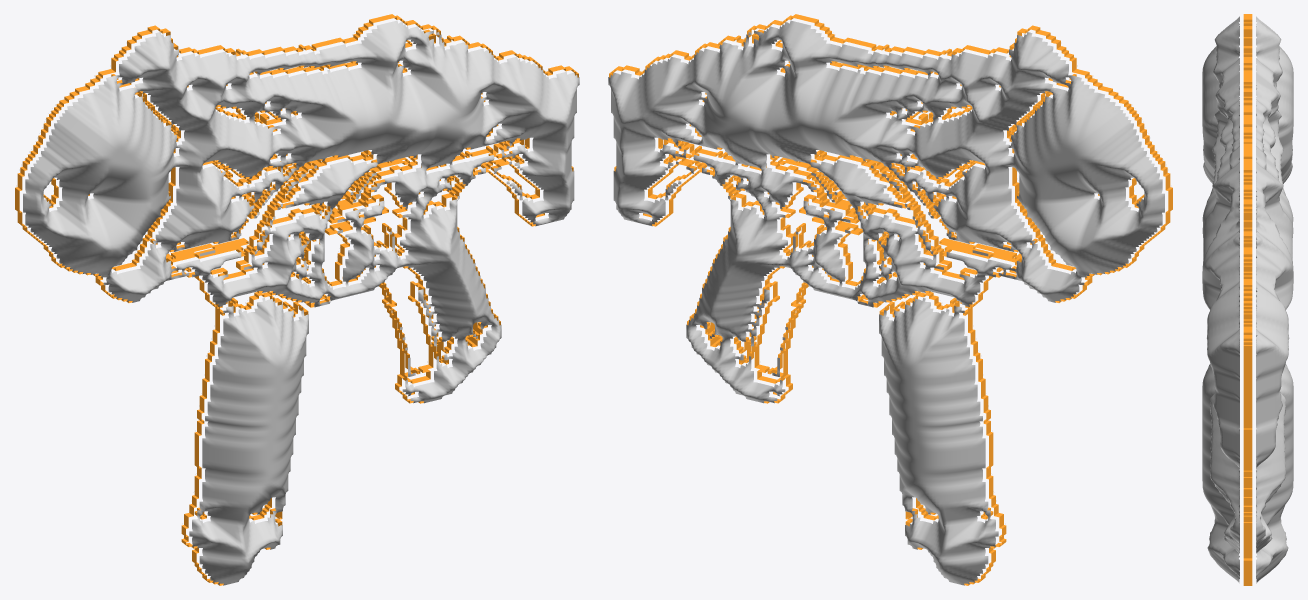
Rendered from val-prime-spectre-relief.glb.
3 views of the same model, side by side, from view 1: azimuth 30°, elevation 25°; view 2: azimuth 150°, elevation 25°; view 3: azimuth 270°, elevation 25° (orthographic). The views are drawn at different scales.
Visible parts, largest first — view 1: projected-skin, silhouette-edge; view 2: projected-skin, silhouette-edge; view 3: projected-skin, silhouette-edge.
Part boxes in pixels (box(x1,y1,x2,y2)): projected-skin: box(23, 20, 579, 585); silhouette-edge: box(15, 14, 578, 585); projected-skin: box(608, 20, 1164, 585); silhouette-edge: box(609, 14, 1172, 585); projected-skin: box(1202, 16, 1293, 583); silhouette-edge: box(1243, 14, 1252, 585).
Size of the model in its own units: 0.8431 by 0.8235 by 0.128.
